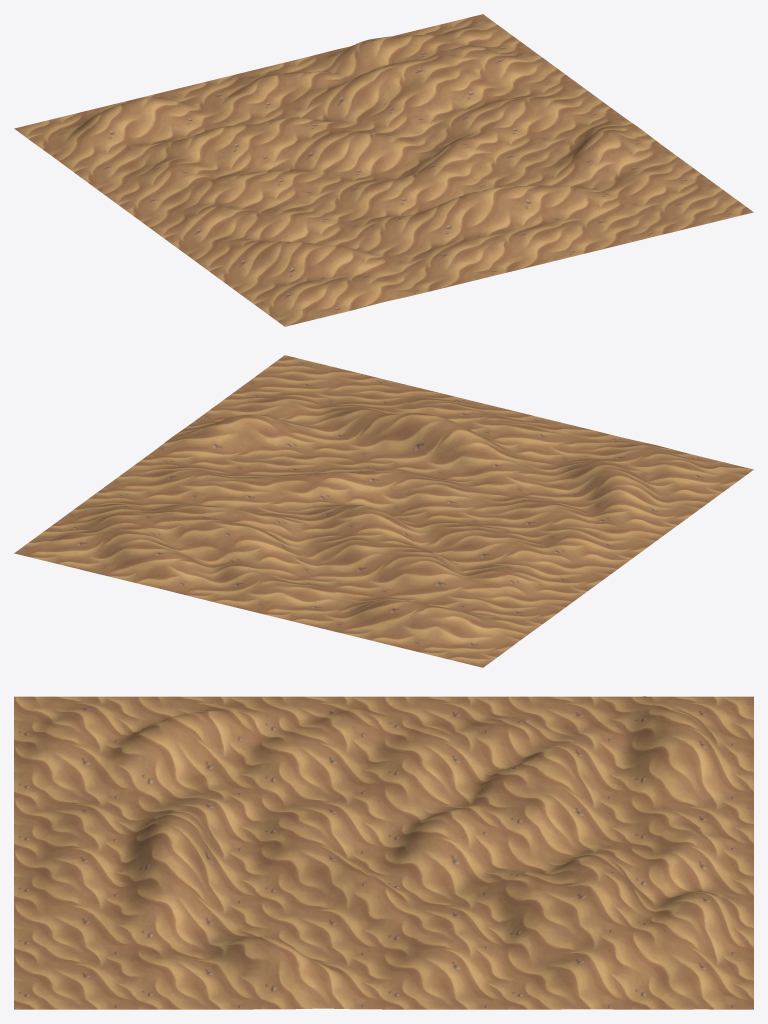
File: sand_grid_big.fbx
3 renders of one model, top to bottom at view 1: azimuth 30°, elevation 25°; view 2: azimuth 150°, elevation 25°; view 3: azimuth 270°, elevation 25°, orthographic. The views are drawn at different scales.
Visible parts, largest first — view 1: samd_grid_big; view 2: samd_grid_big; view 3: samd_grid_big.
Part boxes in pixels (x1,y1,x2,y2): samd_grid_big: [14, 14, 753, 326]; samd_grid_big: [14, 355, 753, 667]; samd_grid_big: [14, 696, 753, 1009].
Size of the model in its own units: 12 by 0.783 by 12.
